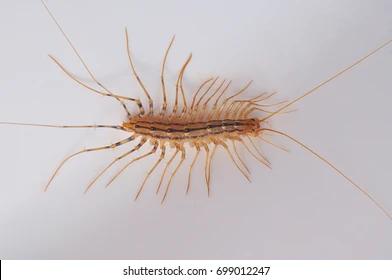centipede: (16, 12, 392, 217)
